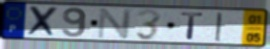3: (135, 8, 165, 42)
9: (61, 7, 87, 39)
I: (213, 11, 224, 43)
N: (96, 7, 134, 40)
T: (180, 11, 205, 41)
X: (25, 5, 60, 39)
